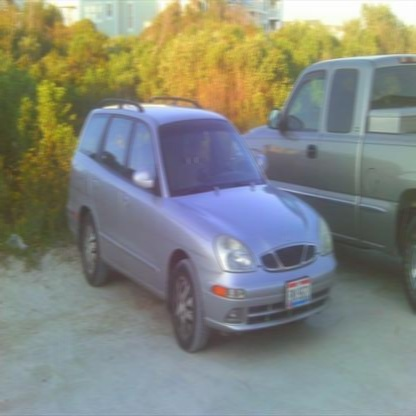Vehicle: (65, 94, 339, 358)
